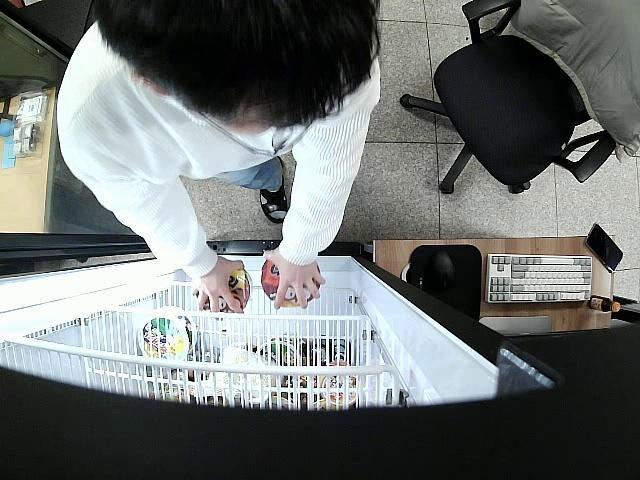05_nuguri_L: (260, 259, 320, 308), (196, 269, 248, 312)
